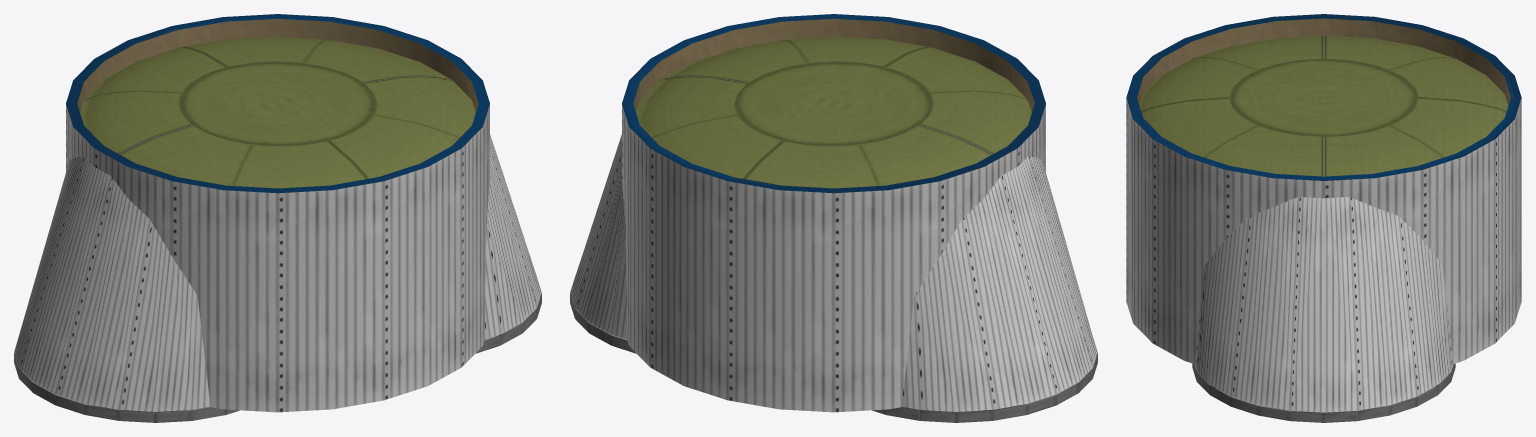
The model's file is TwinEngineCoupler.FBX.
3 renders of one model, left to right at view 1: azimuth 30°, elevation 25°; view 2: azimuth 150°, elevation 25°; view 3: azimuth 270°, elevation 25°, orthographic. The views are drawn at different scales.
Visible parts, largest first — view 1: MainBody, EndCap001, EngineSkirt002, EngineSkirt001, EngineMount002, EngineMount001; view 2: MainBody, EndCap001, EngineSkirt002, EngineSkirt001, EngineMount002, EngineMount001; view 3: MainBody, EngineSkirt001, EndCap001, EngineMount001.
Boxes of the visible parts, bbox=[...] form: MainBody: bbox=[66, 14, 489, 412]; EndCap001: bbox=[80, 36, 475, 188]; EngineSkirt002: bbox=[14, 156, 210, 411]; EngineSkirt001: bbox=[484, 134, 541, 339]; EngineMount002: bbox=[14, 353, 239, 422]; EngineMount001: bbox=[476, 293, 541, 353]; MainBody: bbox=[622, 14, 1045, 412]; EndCap001: bbox=[636, 36, 1031, 188]; EngineSkirt002: bbox=[901, 156, 1097, 411]; EngineSkirt001: bbox=[570, 134, 627, 339]; EngineMount002: bbox=[872, 353, 1097, 422]; EngineMount001: bbox=[570, 293, 635, 353]; MainBody: bbox=[1126, 14, 1521, 363]; EngineSkirt001: bbox=[1194, 197, 1453, 412]; EndCap001: bbox=[1139, 35, 1508, 176]; EngineMount001: bbox=[1192, 363, 1455, 422].
Size of what is drawn, in the model's own units: 2.5 by 1.12 by 1.87.
2 materials, 2 textured.
